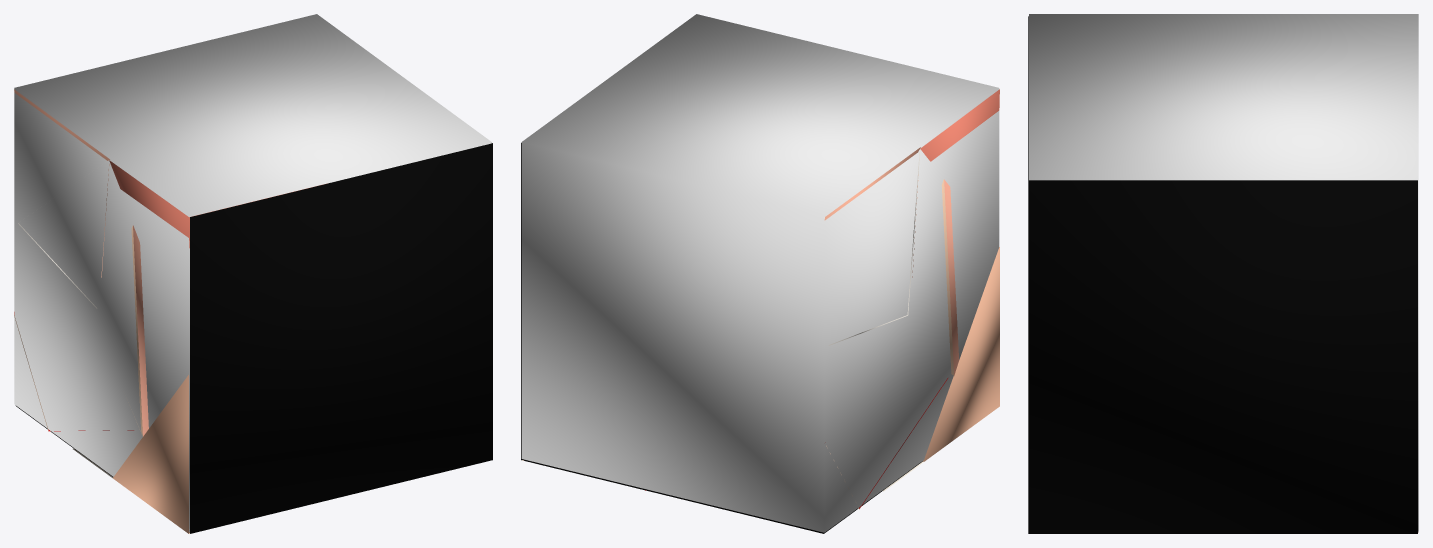
The picture shows the model from 3 angles, left to right: view 1: azimuth 30°, elevation 25°; view 2: azimuth 150°, elevation 25°; view 3: azimuth 270°, elevation 25°; orthographic projection. The views are drawn at different scales.
Parts seen in each view (by area): view 1: Renderer Node; view 2: Renderer Node; view 3: Renderer Node.
Part boxes in pixels (left/top/right/bottom): Renderer Node: left=14, top=14, right=492, bottom=533; Renderer Node: left=521, top=14, right=999, bottom=533; Renderer Node: left=1028, top=14, right=1418, bottom=533.
Size of the model in its own units: 1.91 by 1.91 by 1.9.
